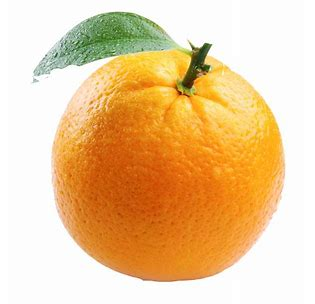orange: (47, 37, 240, 245)
